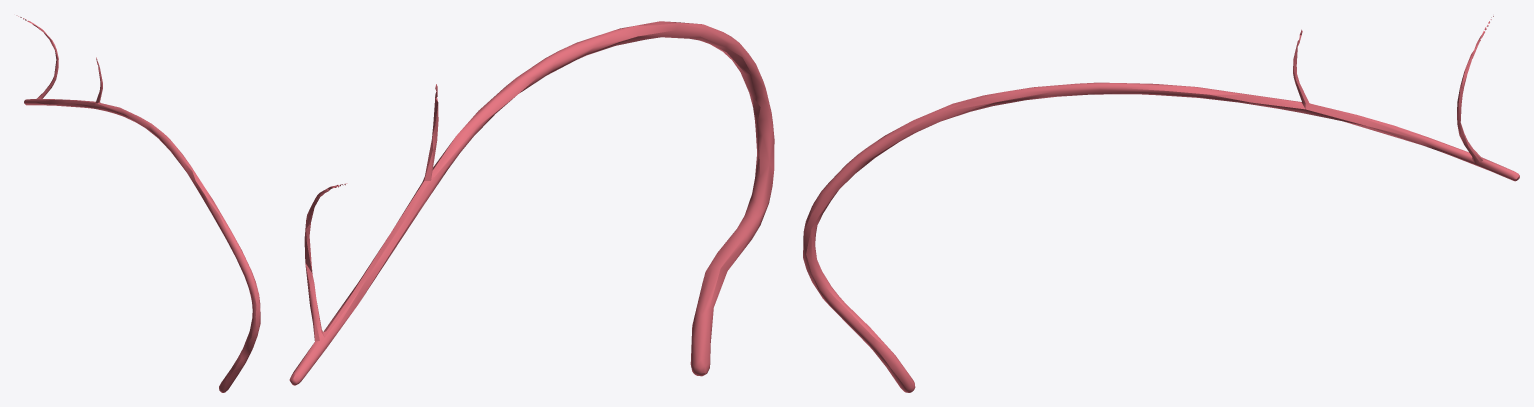
Rendered from fma76098_fj5151.glb.
The picture shows the model from 3 angles, left to right: view 1: azimuth 30°, elevation 25°; view 2: azimuth 150°, elevation 25°; view 3: azimuth 270°, elevation 25°; orthographic projection. The views are drawn at different scales.
Visible parts, largest first — view 1: FMA76098_FJ5151; view 2: FMA76098_FJ5151; view 3: FMA76098_FJ5151.
Part boxes in pixels (x1=…): FMA76098_FJ5151: x1=16, y1=15, x2=260, y2=392; FMA76098_FJ5151: x1=289, y1=21, x2=774, y2=385; FMA76098_FJ5151: x1=803, y1=16, x2=1519, y2=392.
Size of the model in its own units: 0.00588 by 0.0417 by 0.074.
